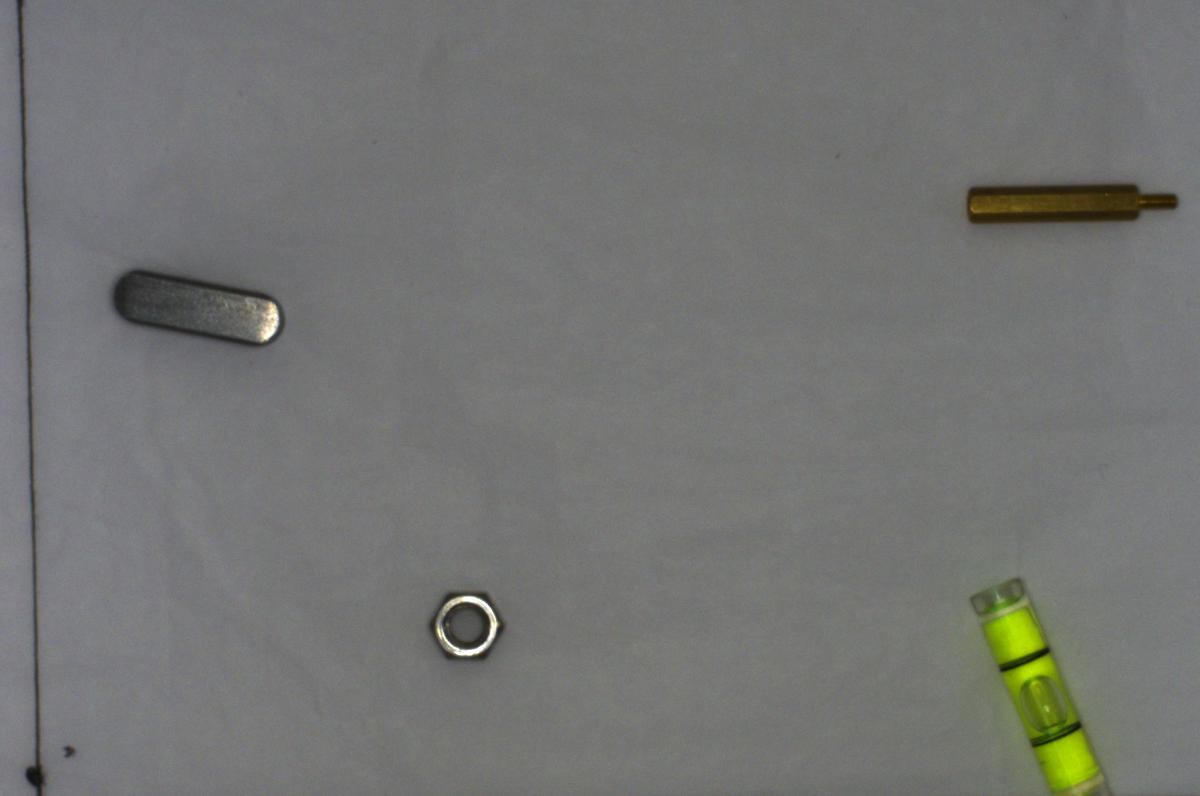Hexagon nut: (421, 581, 512, 666)
Hexagon pillar: (955, 165, 1185, 236)
Horizontal bubble: (955, 559, 1120, 795)
Keybar: (99, 253, 297, 359)
